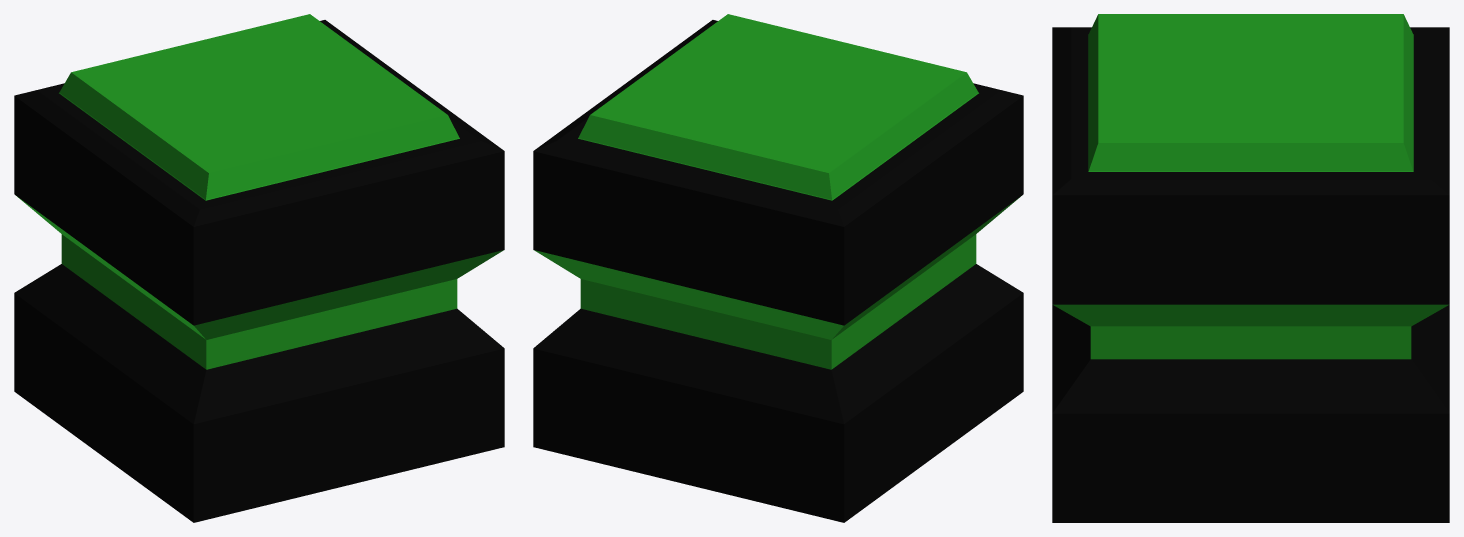
File: GreenButton.fbx
3 renders of one model, left to right at view 1: azimuth 30°, elevation 25°; view 2: azimuth 150°, elevation 25°; view 3: azimuth 270°, elevation 25°, orthographic. The views are drawn at different scales.
Visible parts, largest first — view 1: BaseGreenButton, GreenButton; view 2: BaseGreenButton, GreenButton; view 3: BaseGreenButton, GreenButton.
Part boxes in pixels (x1,y1,x2,y2): BaseGreenButton: (14,20,504,522); GreenButton: (59,14,459,200); BaseGreenButton: (533,20,1023,522); GreenButton: (578,14,978,200); BaseGreenButton: (1052,27,1449,522); GreenButton: (1088,14,1413,171).
Size of the model in its own units: 107 by 107 by 107.
